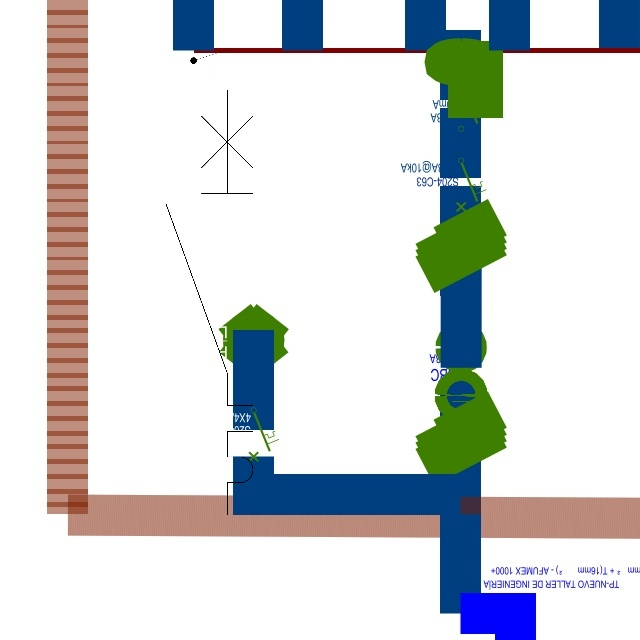interruptor_termomagnetico: (155, 79, 264, 525)
